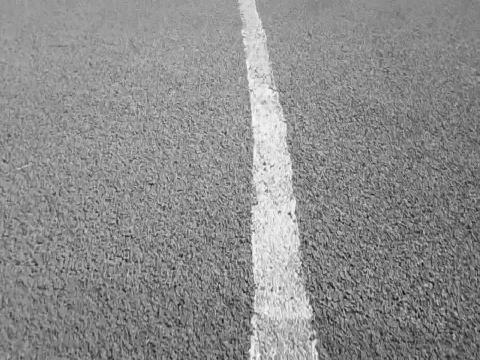Lines: (237, 0, 320, 360)
